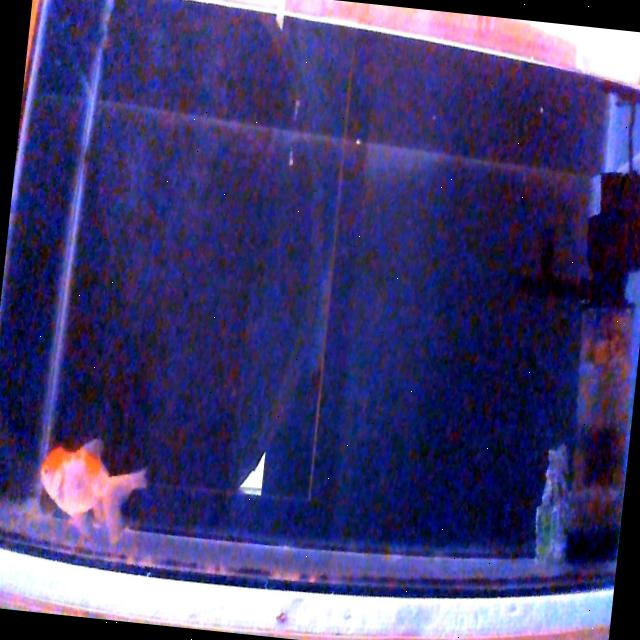fish: (32, 434, 151, 549)
